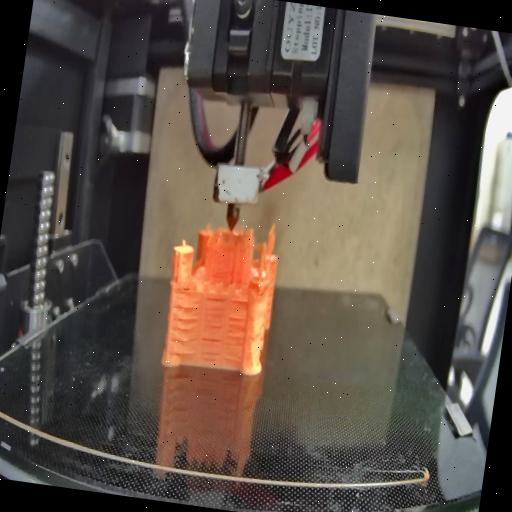cracks: (166, 302, 202, 360), (222, 314, 248, 363), (201, 296, 227, 332), (198, 336, 222, 364), (178, 280, 194, 296), (232, 293, 249, 306)
